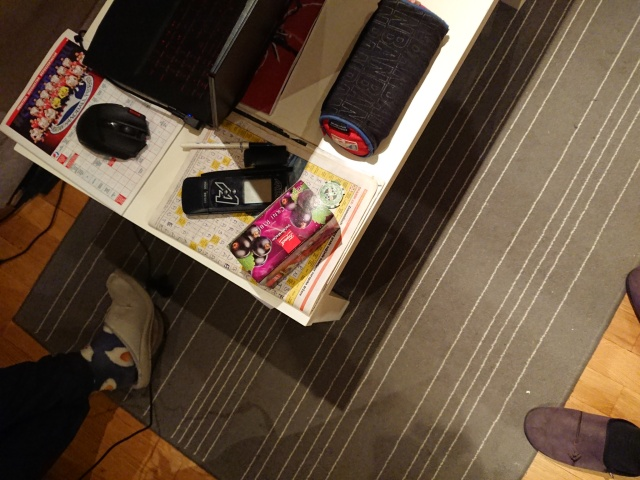Franck Black Currant Tea 60g: (225, 176, 342, 291)
